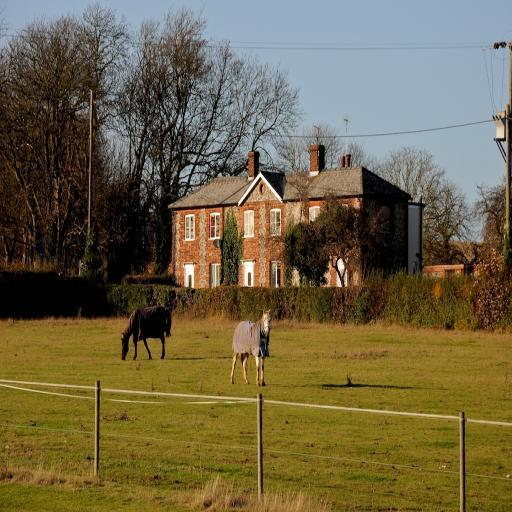horse: (230, 306, 270, 387), (120, 306, 172, 360)
